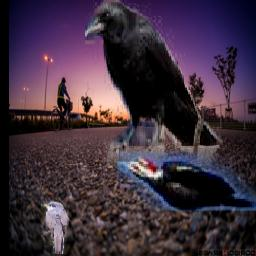Crow: (85, 0, 225, 166)
Cuckoo: (41, 201, 69, 254)
Woodpecker: (117, 151, 256, 211)
